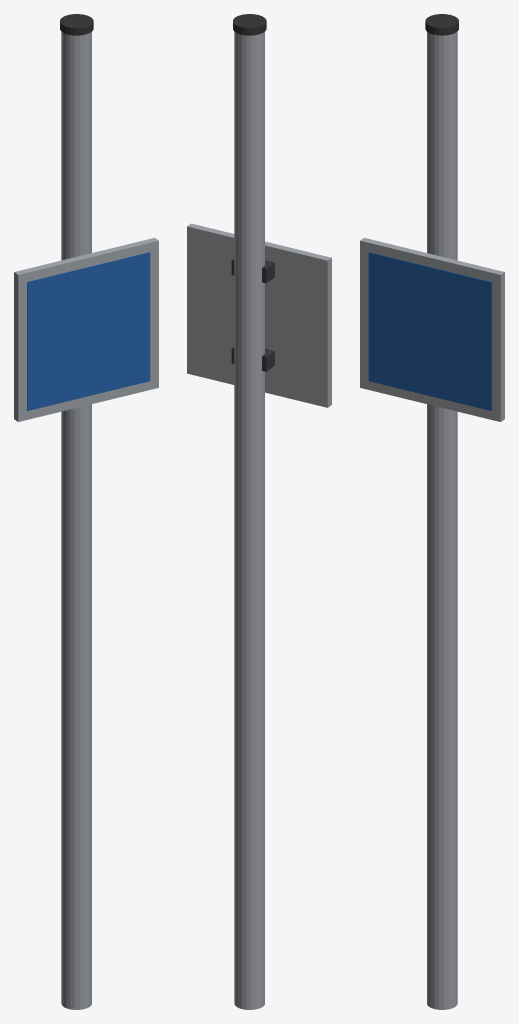
The picture shows the model from 3 angles, left to right: view 1: azimuth 30°, elevation 25°; view 2: azimuth 150°, elevation 25°; view 3: azimuth 330°, elevation 25°; orthographic projection.
Visible parts, largest first — view 1: plateBottom=1.6;plateHeight=0.4;plateMaterial=sign_plate;pla (×3); view 2: plateBottom=1.6;plateHeight=0.4;plateMaterial=sign_plate;pla (×3); view 3: plateBottom=1.6;plateHeight=0.4;plateMaterial=sign_plate;pla (×3).
Part boxes in pixels (x1=…): plateBottom=1.6;plateHeight=0.4;plateMaterial=sign_plate;pla (×3): x1=14, y1=14, x2=158, y2=1009; plateBottom=1.6;plateHeight=0.4;plateMaterial=sign_plate;pla (×3): x1=187, y1=14, x2=331, y2=1009; plateBottom=1.6;plateHeight=0.4;plateMaterial=sign_plate;pla (×3): x1=360, y1=14, x2=504, y2=1009.
Size of the model in its own units: 0.4 by 0.1018 by 2.67.
